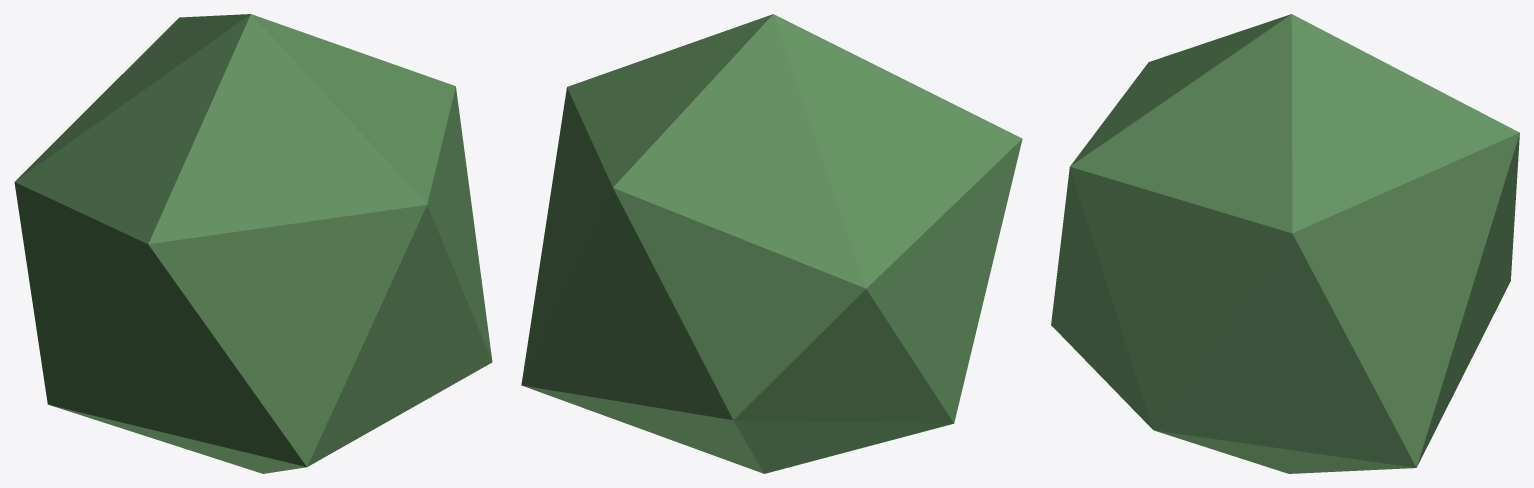
Rendered from Leaves3.fbx.
The picture shows the model from 3 angles, left to right: view 1: azimuth 30°, elevation 25°; view 2: azimuth 150°, elevation 25°; view 3: azimuth 270°, elevation 25°; orthographic projection.
Parts seen in each view (by area): view 1: Leaves3; view 2: Leaves3; view 3: Leaves3.
Part boxes in pixels (bbox=[...]): Leaves3: bbox=[14, 14, 492, 473]; Leaves3: bbox=[521, 14, 1022, 473]; Leaves3: bbox=[1051, 14, 1519, 473].
Bounding box in the file's own units: 109 × 121 × 113.
